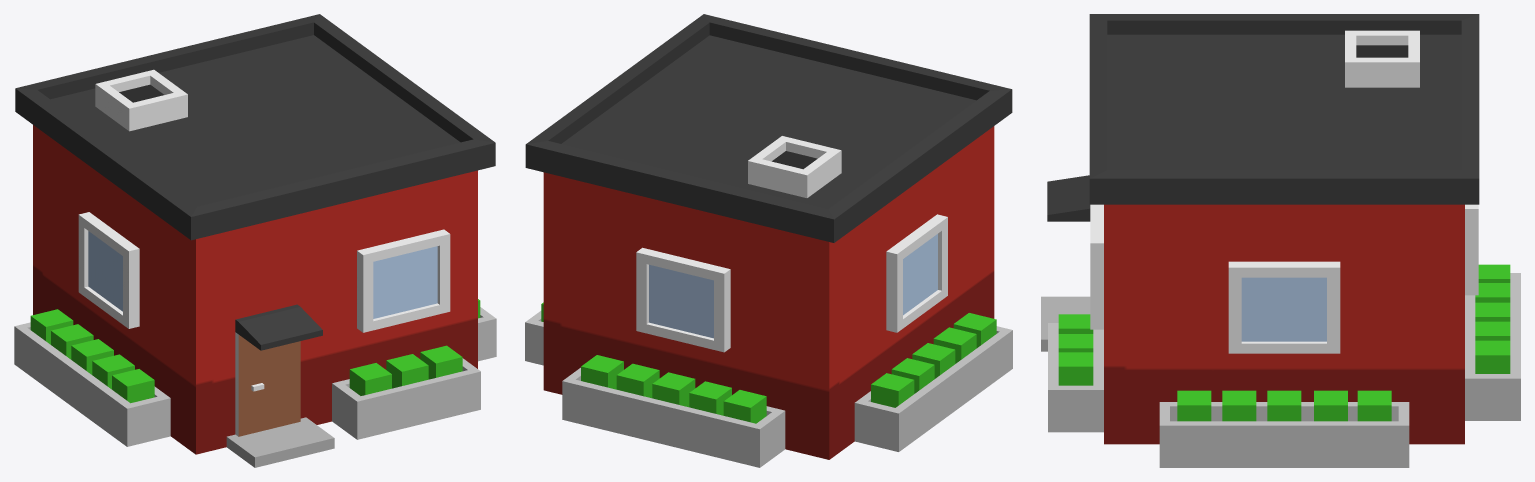
File: Really Basic Mini.fbx
3 renders of one model, left to right at view 1: azimuth 30°, elevation 25°; view 2: azimuth 150°, elevation 25°; view 3: azimuth 270°, elevation 25°, orthographic. The views are drawn at different scales.
Parts seen in each view (by area): view 1: Really Basic Mini; view 2: Really Basic Mini; view 3: Really Basic Mini.
Boxes of the visible parts, x1=… form: Really Basic Mini: x1=14, y1=14, x2=496, y2=467; Really Basic Mini: x1=525, y1=14, x2=1012, y2=467; Really Basic Mini: x1=1041, y1=14, x2=1520, y2=467.
Size of the model in its own units: 2.62 by 1.74 by 2.66.
